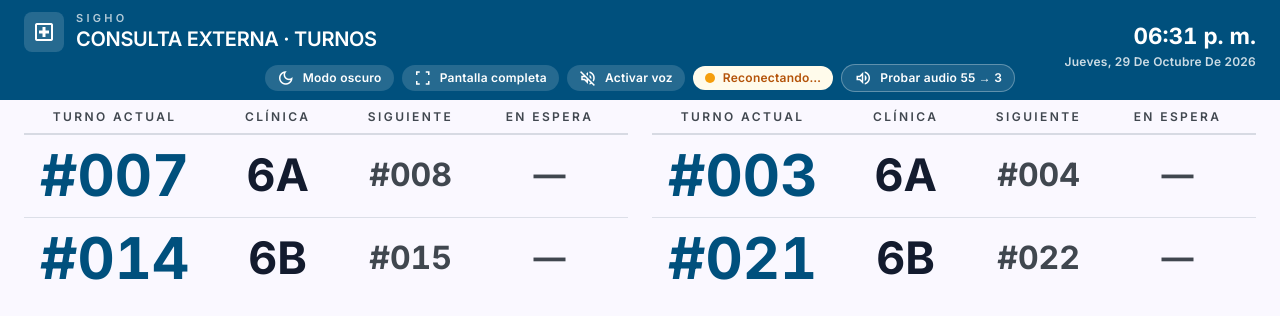
TableroPage › actualiza únicamente la asignación que coincide por asignacionDiariaEspacioId
Expected: the element with test id "tablero-tabla" is shown, x1=23 y1=108 x2=1256 y2=299
Click the button "Activar voz" at point(626, 78), box x1=567 y1=65 x2=685 y2=91
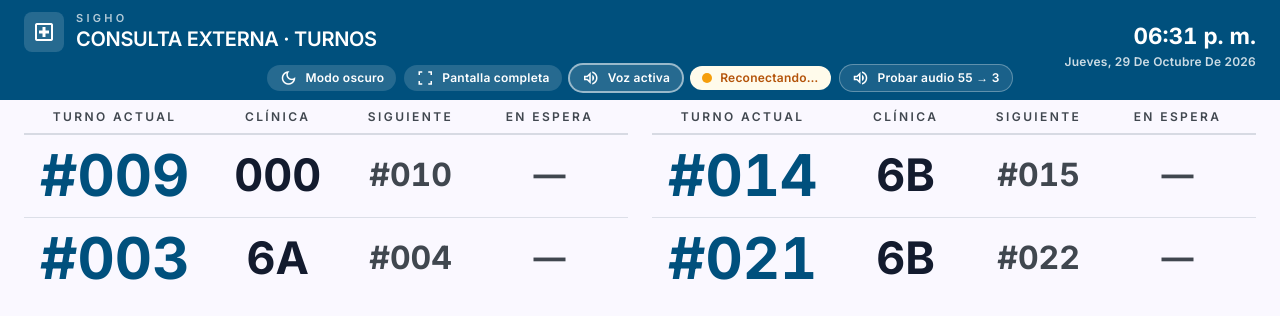
Result: the text "#009" is shown at x1=40 y1=140 x2=189 y2=210
Result: the text "#014" is shown at x1=668 y1=140 x2=817 y2=210
